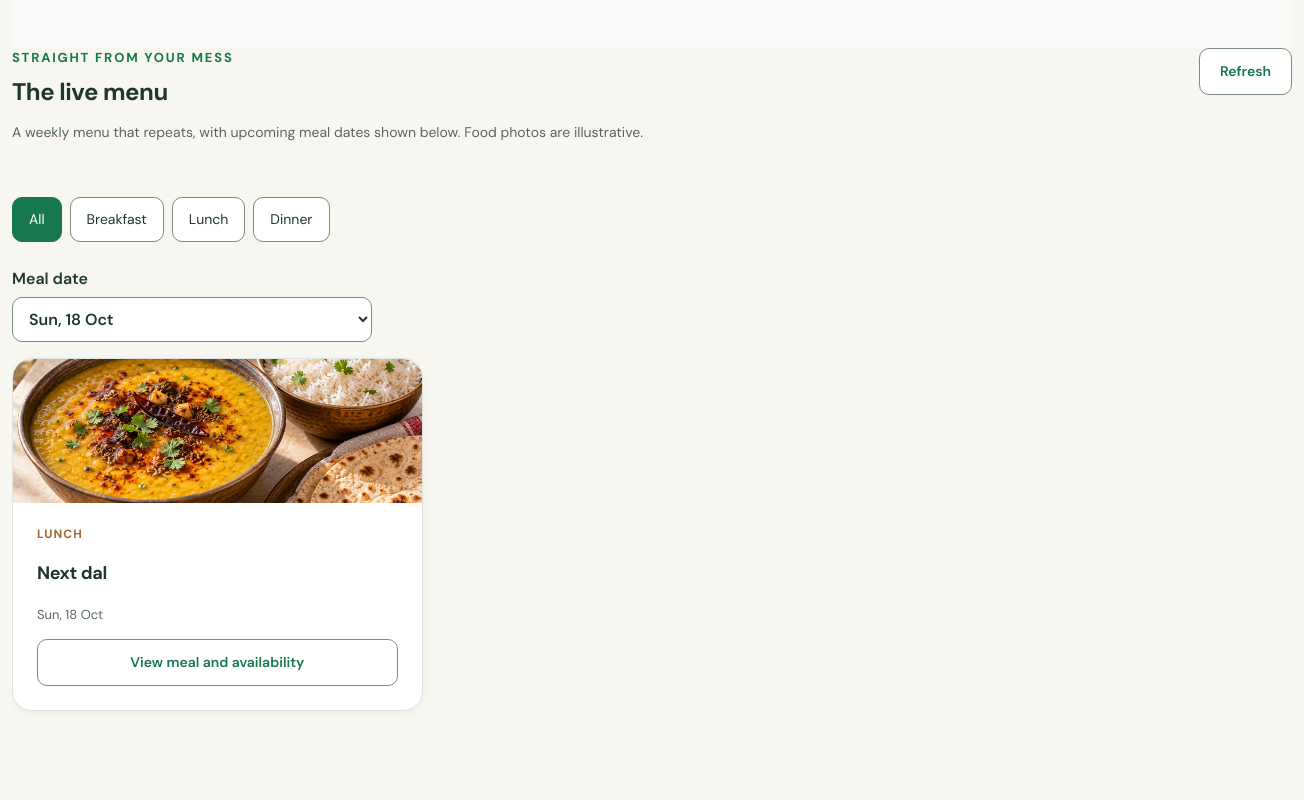
Scenario: retains an unavailable date explicitly and offers recovery in explore
Expected: the heading "Next dal" is shown, [37,561,107,585]
Select "All dates" in the dropdown labelled "Meal date". click: (192, 320)
box: [12,297,372,342]
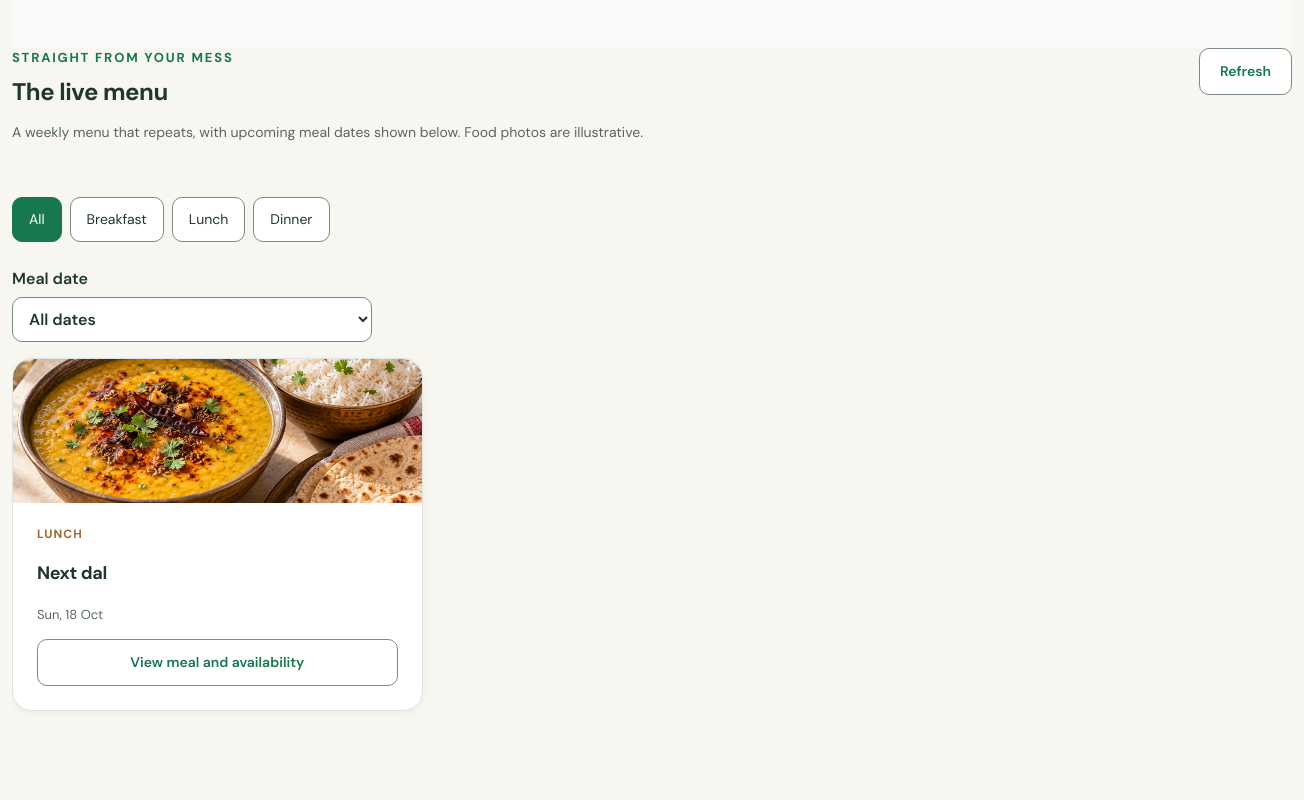
Select "Sun, 18 Oct" in the dropdown labelled "Meal date". click: (192, 320)
box: [12,297,372,342]
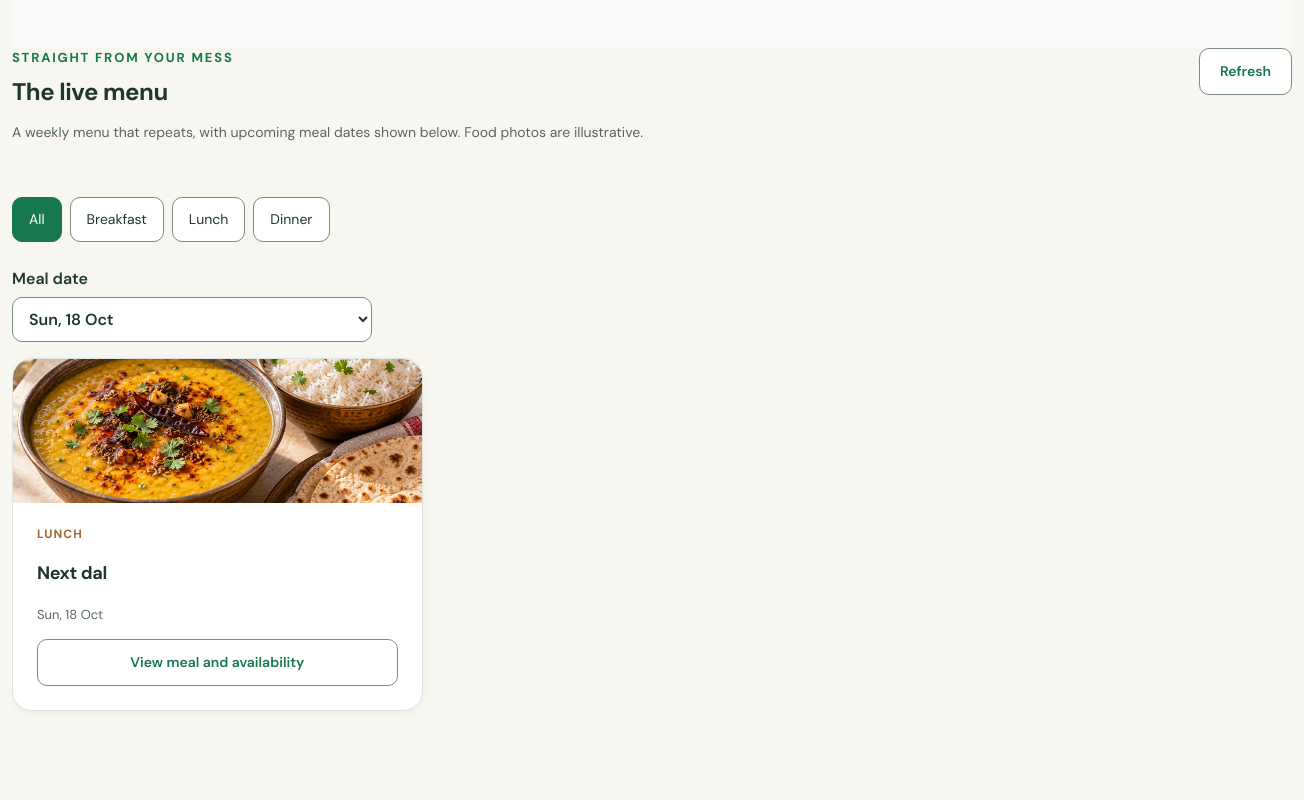
Click the button "Refresh". click: (1245, 72)
box: [1199,48,1292,95]
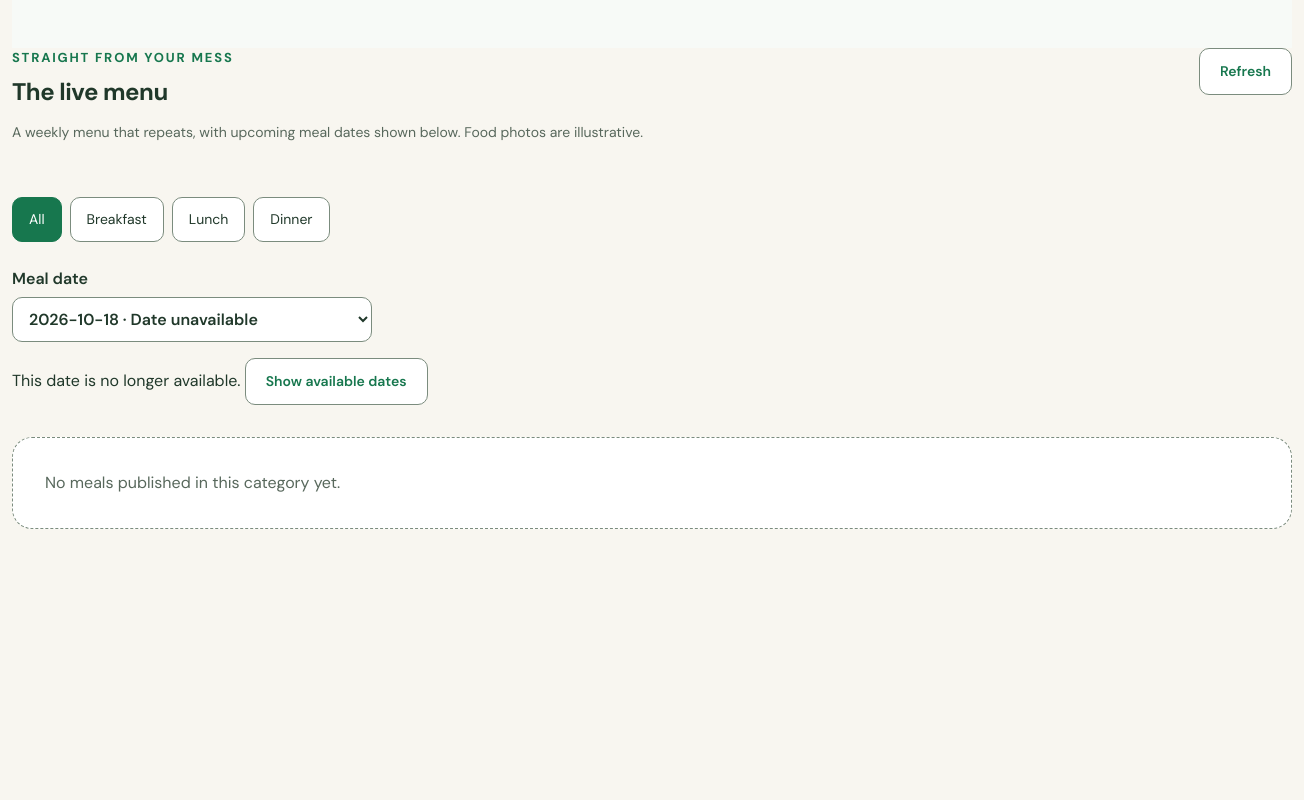
Now the dropdown labelled "Meal date" shows "2026-10-18 · Date unavailable", box [12,297,372,342]
Click the button "Show available dates". click: (336, 382)
box: [245,358,428,405]
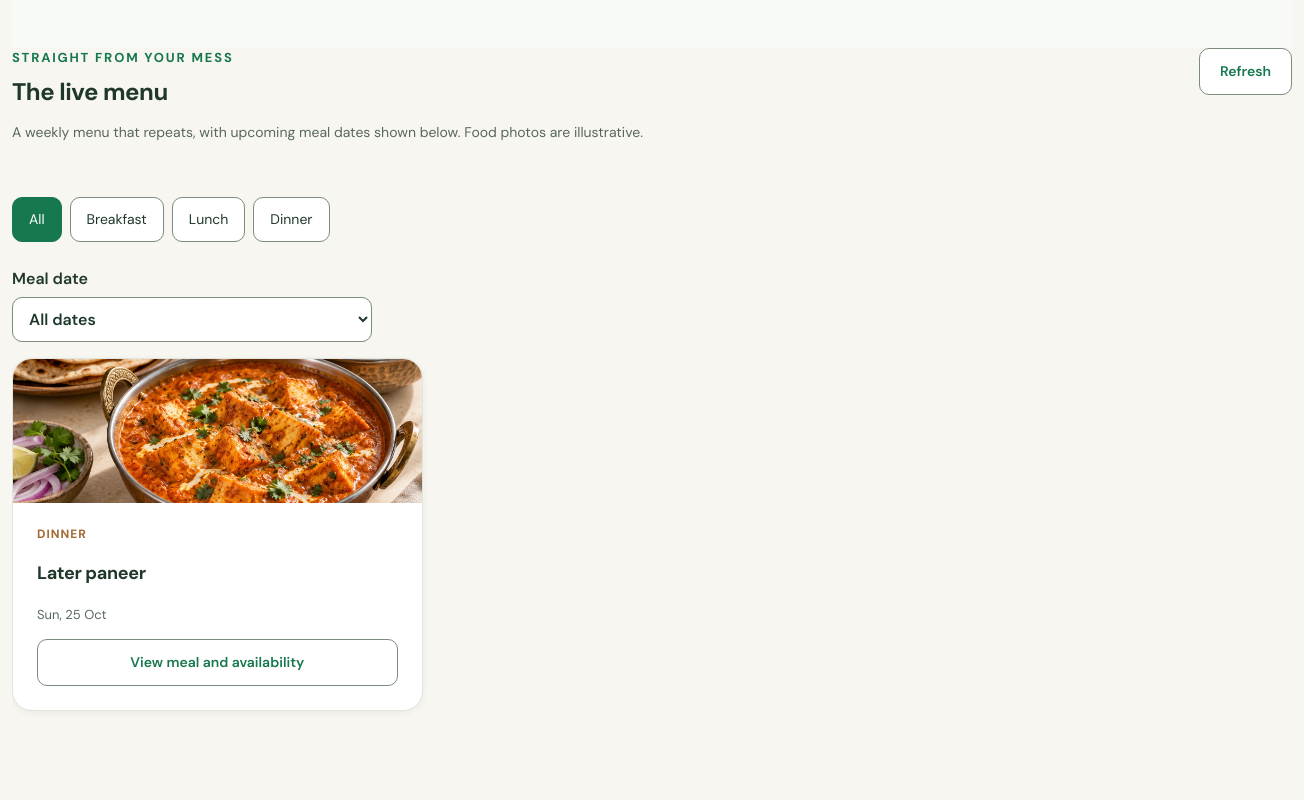
Now the heading "Later paneer" is shown, box [37,561,146,585]
